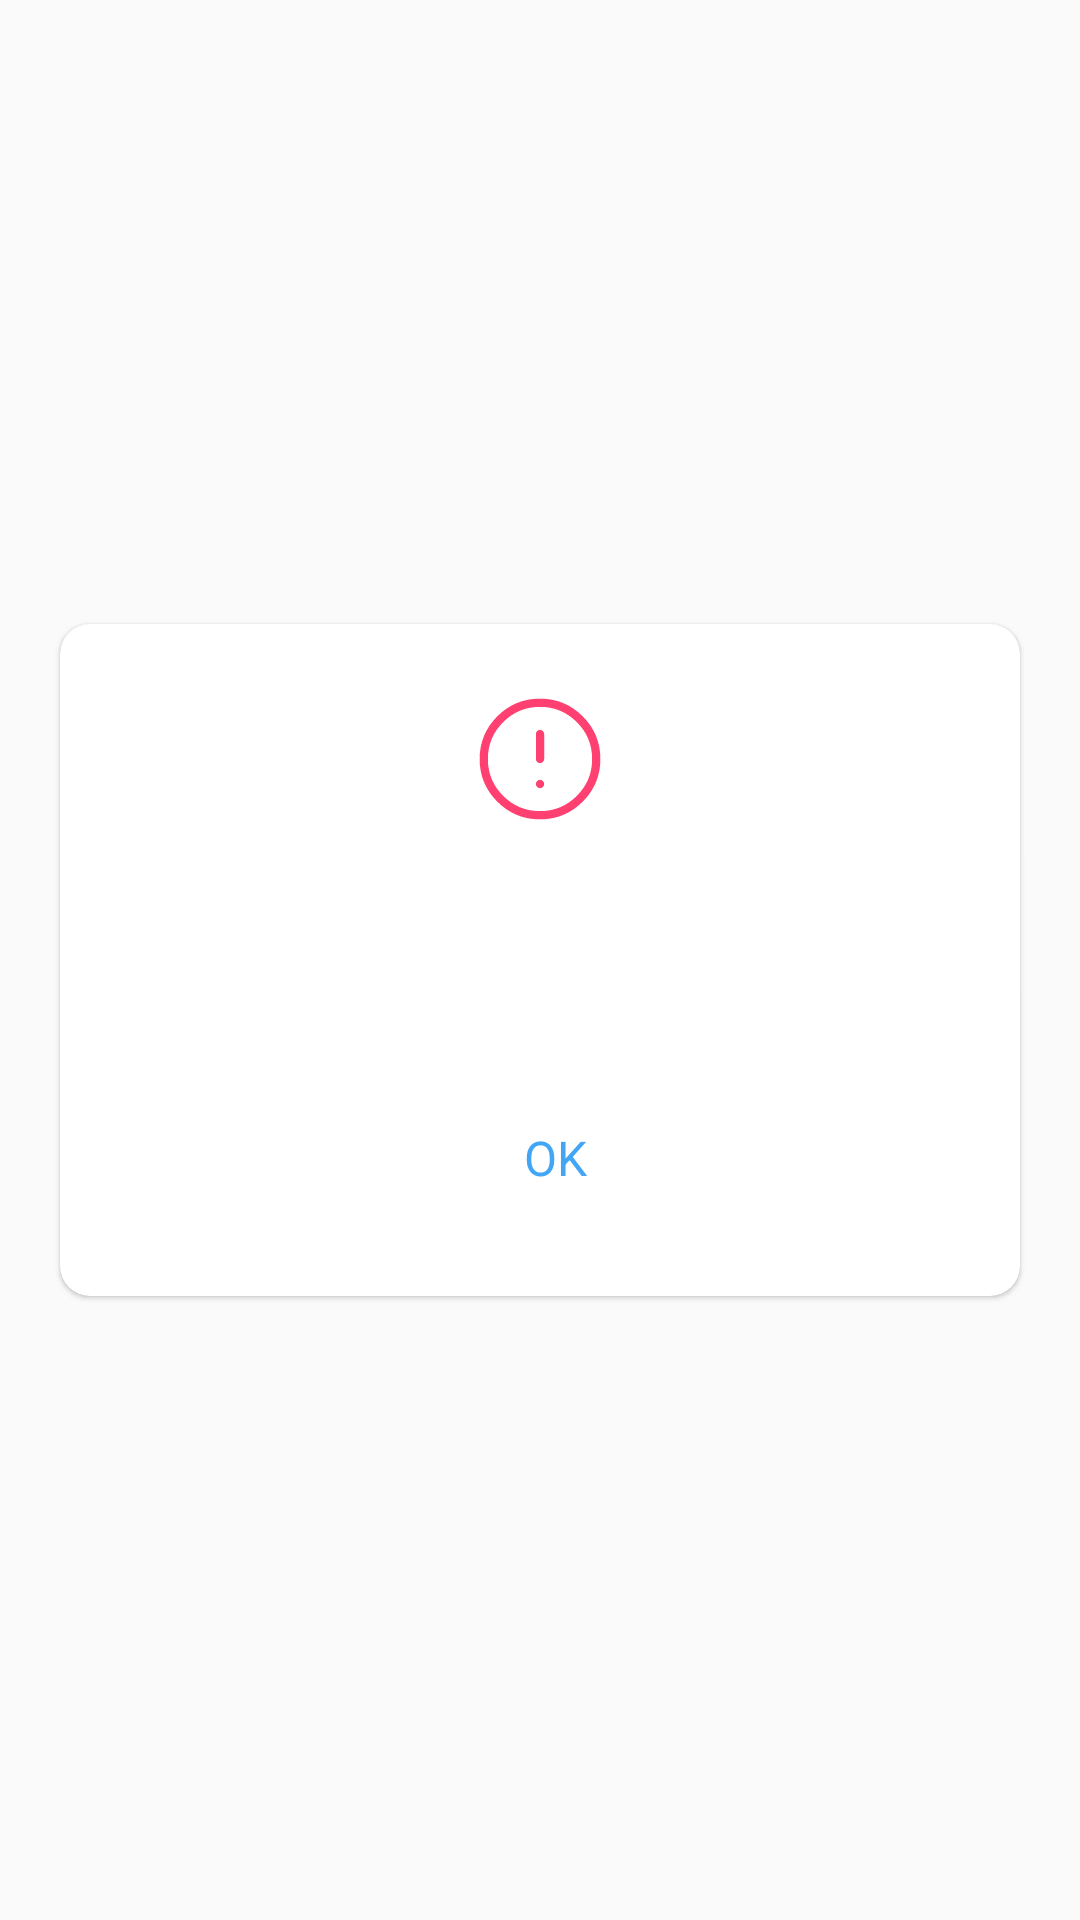

Screen size 1080*1920. Icon name, then its center in pixels as (x=x, y=y):
alert: (x=540, y=759)
